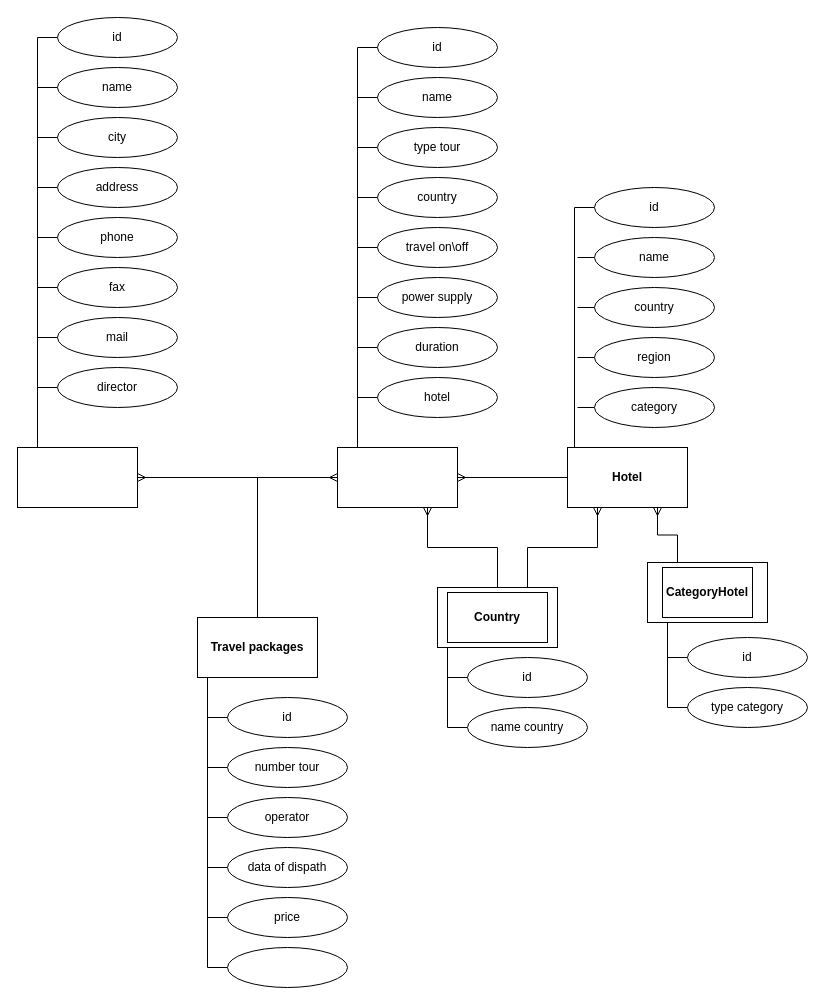
This 825x1005 diagram has some shape labels left out. Here are the shapes that lost their labels. From the top down, the box of each, then its label:
(16, 446, 138, 508): Companies
(336, 446, 458, 508): Tours
(226, 946, 348, 988): number of people
